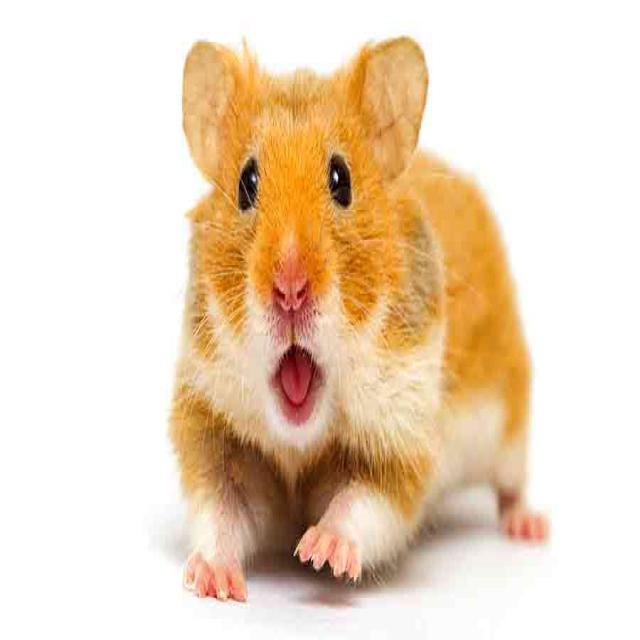hamster: (183, 63, 514, 566)
